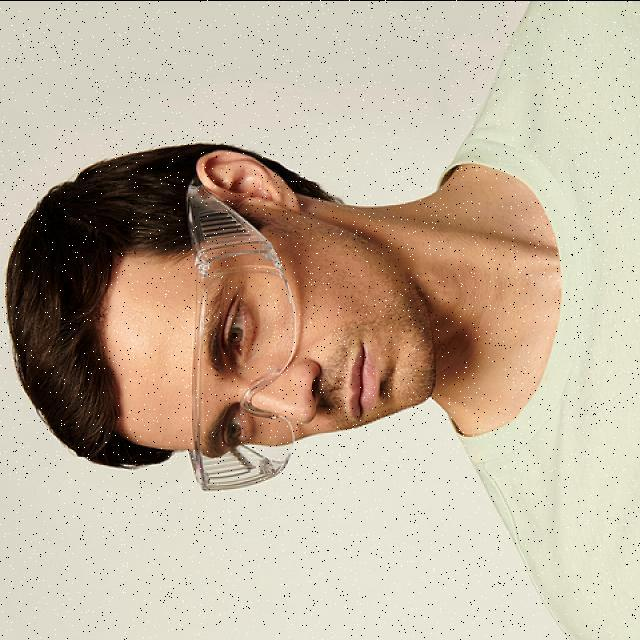goggles_on: (185, 190, 295, 496)
